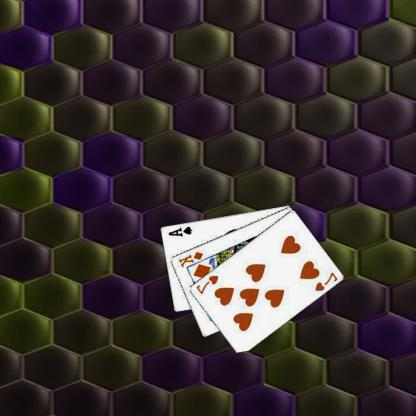7H: (195, 272, 221, 296), (314, 269, 340, 292)
AS: (167, 224, 195, 238)
KD: (178, 249, 206, 268)
